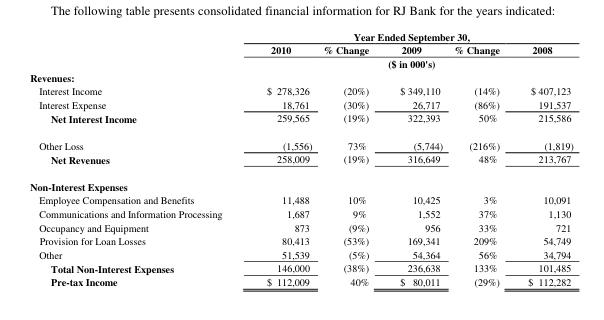table: (29, 29, 572, 288)
table column: (29, 29, 243, 288), (243, 29, 317, 288), (317, 29, 383, 288), (447, 29, 513, 288), (383, 29, 447, 288), (513, 29, 572, 288)
table column header: (29, 29, 572, 70)
table projected row header: (29, 172, 572, 192), (29, 70, 572, 83)
table row: (29, 110, 572, 131), (29, 151, 572, 172), (29, 131, 572, 151), (29, 172, 572, 192), (29, 29, 572, 43), (29, 56, 572, 70), (29, 83, 572, 97), (29, 192, 572, 206), (29, 219, 572, 233), (29, 233, 572, 247), (29, 260, 572, 274), (29, 274, 572, 288), (29, 43, 572, 56), (29, 70, 572, 83), (29, 97, 572, 110), (29, 206, 572, 219), (29, 247, 572, 260)
table spanning cell: (243, 29, 572, 43), (243, 56, 572, 70)
